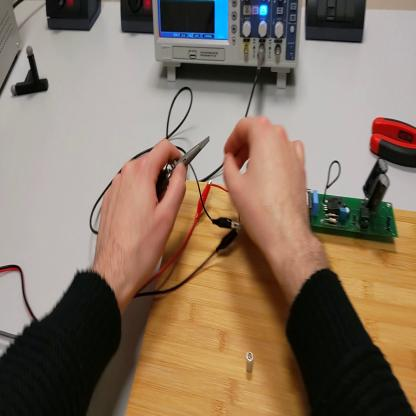hand: (94, 138, 188, 293), (224, 114, 313, 261)
high voltage board: (214, 159, 402, 242)
oscilloscope: (153, 1, 303, 90)
oscilloscope probe tip: (156, 135, 214, 194)
pliers: (368, 112, 416, 170)
power supply: (1, 2, 20, 92)
socket: (44, 2, 103, 32), (120, 5, 156, 35)
